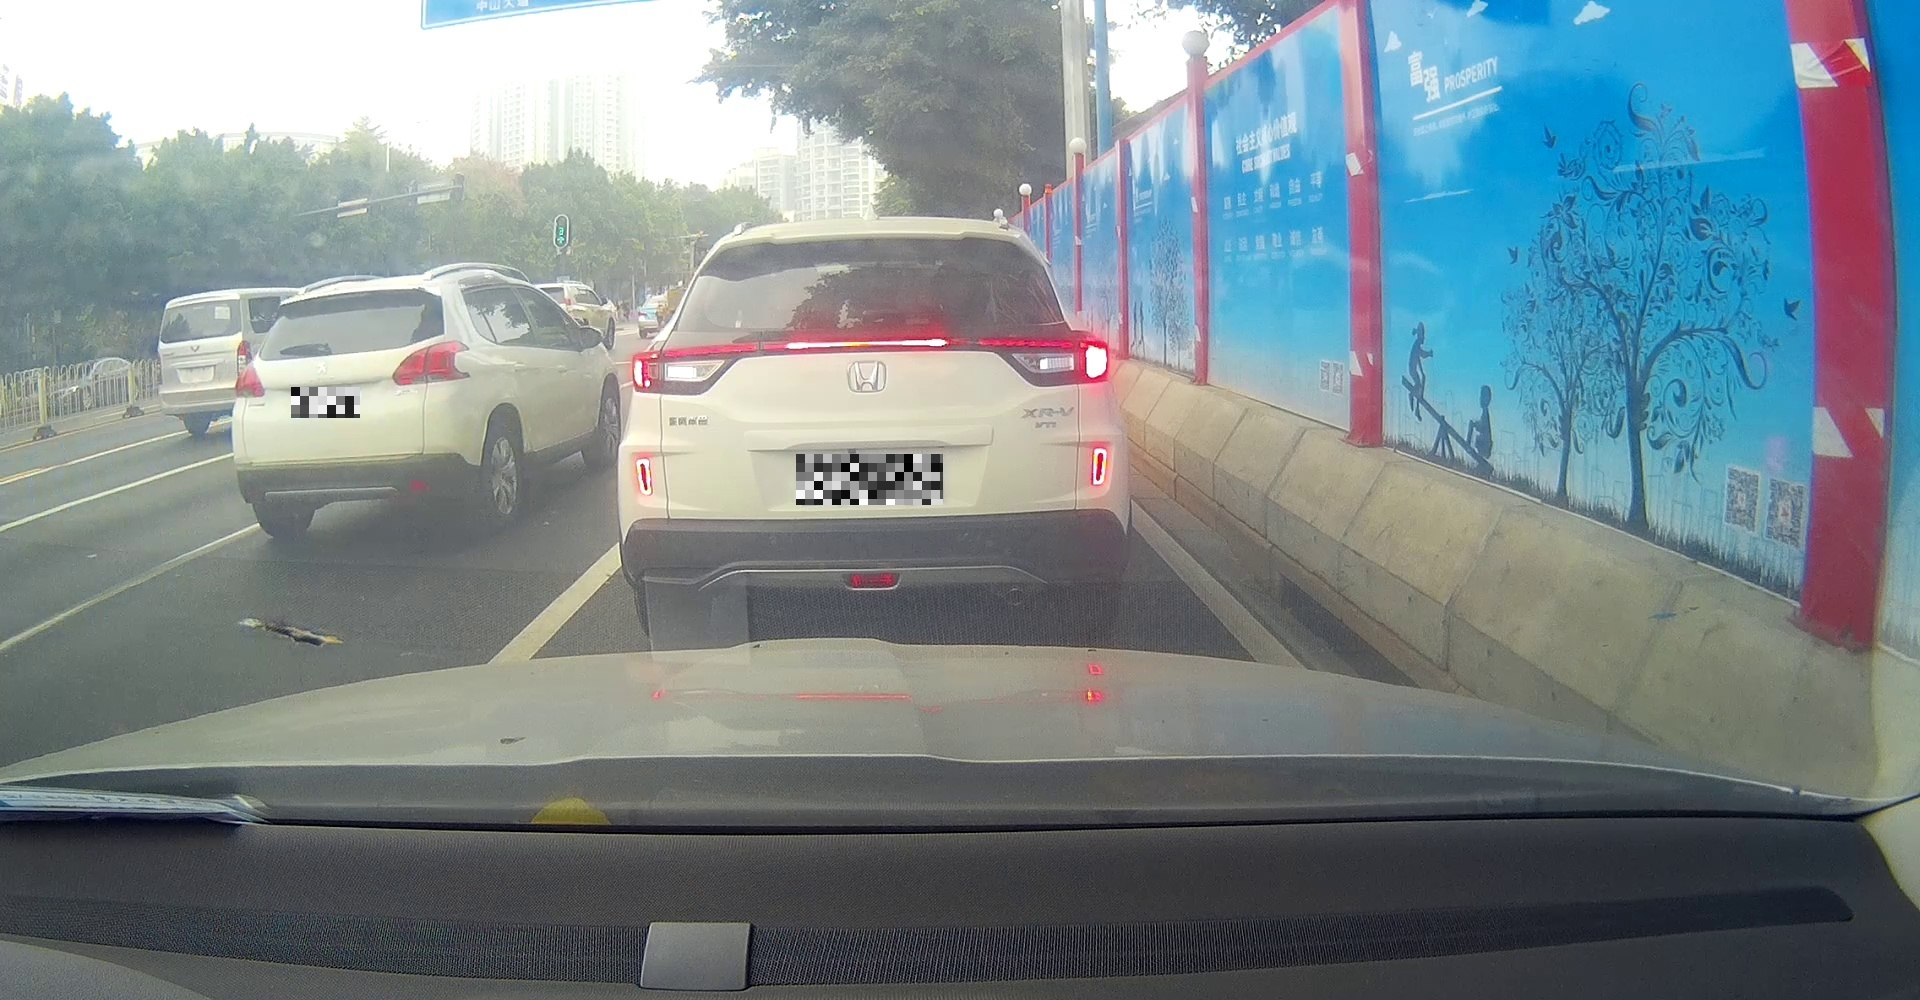L_light: (631, 341, 759, 396), (235, 362, 265, 398)
R_light: (977, 331, 1110, 388), (391, 340, 471, 386)
T_light: (761, 338, 971, 352), (325, 292, 371, 299)
day-brake: (617, 216, 1133, 641)
day-no: (231, 261, 476, 539)
plate_1: (291, 387, 361, 418)
plate_2: (796, 454, 943, 505)
